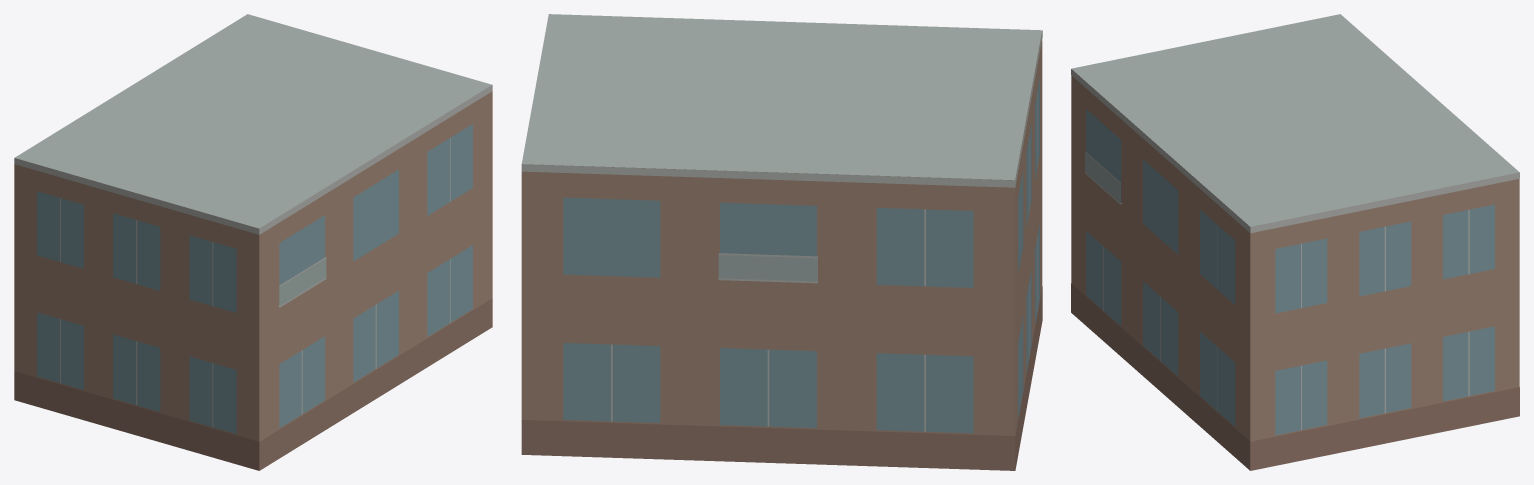
Rendered from survey-upis-32833188.glb.
3 views of the same model, side by side, from view 1: azimuth 30°, elevation 25°; view 2: azimuth 150°, elevation 25°; view 3: azimuth 270°, elevation 25° (orthographic). The views are drawn at different scales.
Parts seen in each view (by area): view 1: survey-upis-32833188.tmp; view 2: survey-upis-32833188.tmp; view 3: survey-upis-32833188.tmp.
Boxes of the visible parts, x1,y1,x2,y2 form: survey-upis-32833188.tmp: [14, 14, 492, 470]; survey-upis-32833188.tmp: [521, 14, 1042, 470]; survey-upis-32833188.tmp: [1071, 14, 1519, 470].
Size of the model in its own units: 17.71 by 9.45 by 15.77.
